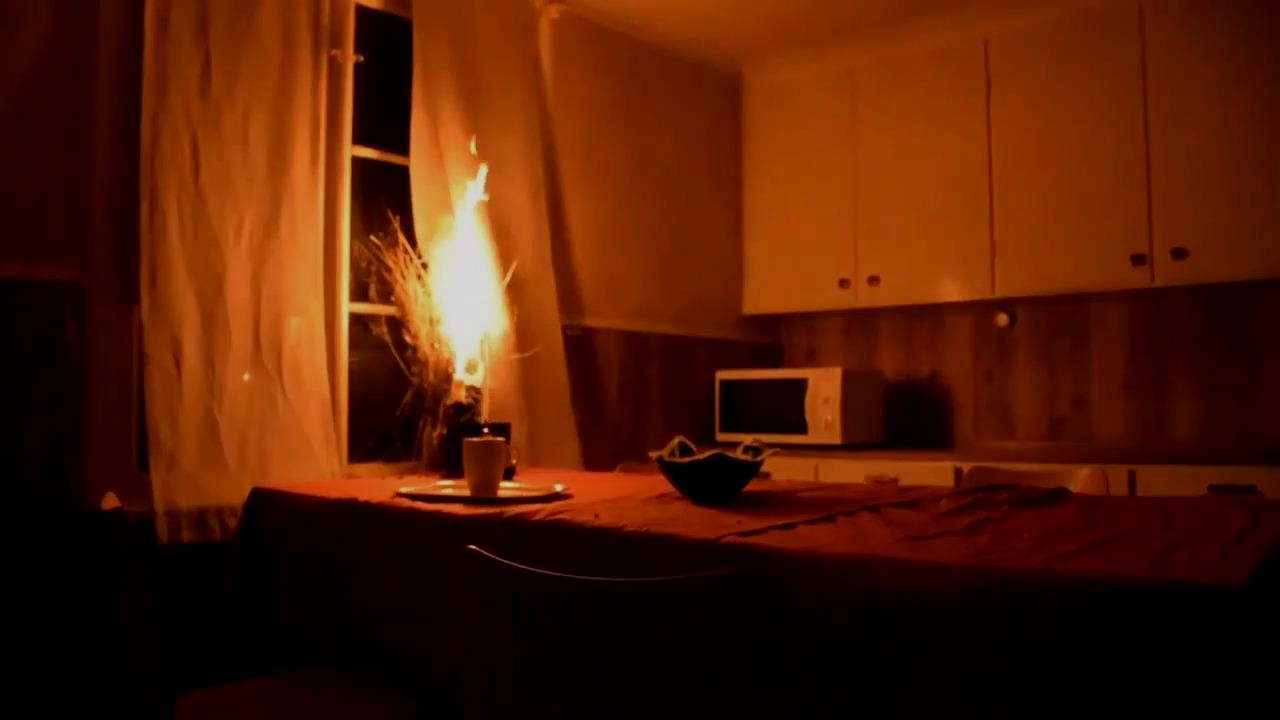fire: (402, 125, 551, 413)
